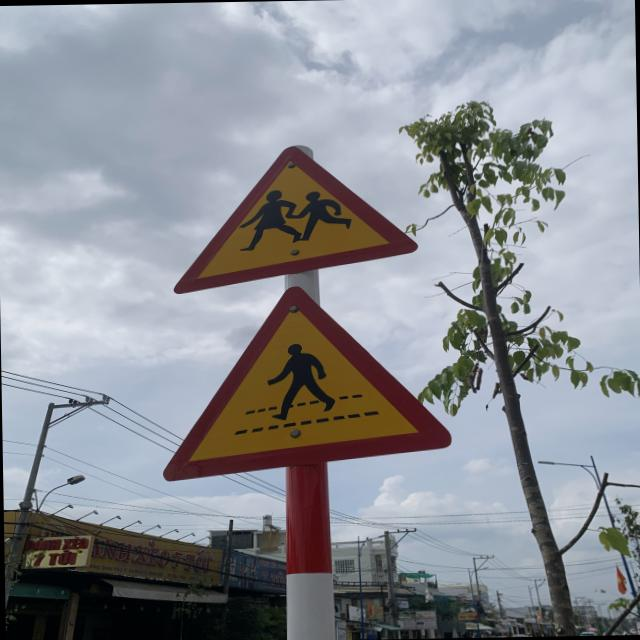Duong_Nguoi_Di_Bo_Sang_Ngang: (156, 282, 454, 482)
Vong_Xuyen: (170, 143, 418, 292)
